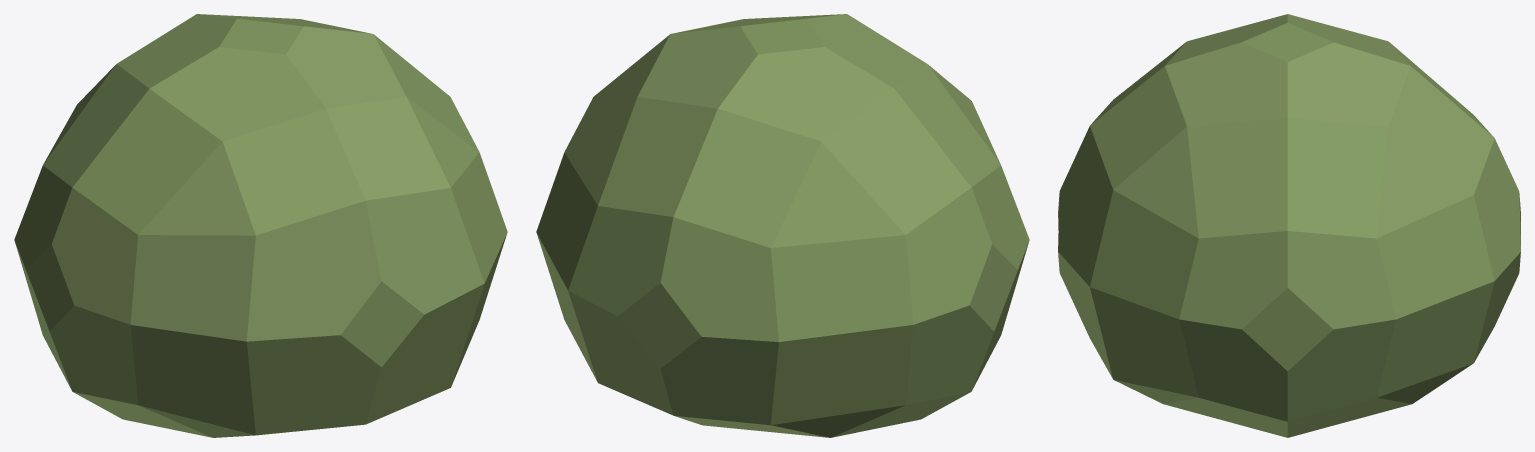
Rendered from Bush_Small_1.fbx.
The picture shows the model from 3 angles, left to right: view 1: azimuth 30°, elevation 25°; view 2: azimuth 150°, elevation 25°; view 3: azimuth 270°, elevation 25°; orthographic projection. The views are drawn at different scales.
Parts seen in each view (by area): view 1: Cube.005; view 2: Cube.005; view 3: Cube.005.
Part boxes in pixels (box(x1,y1,x2,y2)): Cube.005: box(14, 14, 507, 437); Cube.005: box(536, 14, 1029, 437); Cube.005: box(1058, 14, 1520, 437).
Size of the model in its own units: 0.8219 by 0.8207 by 0.6811.
